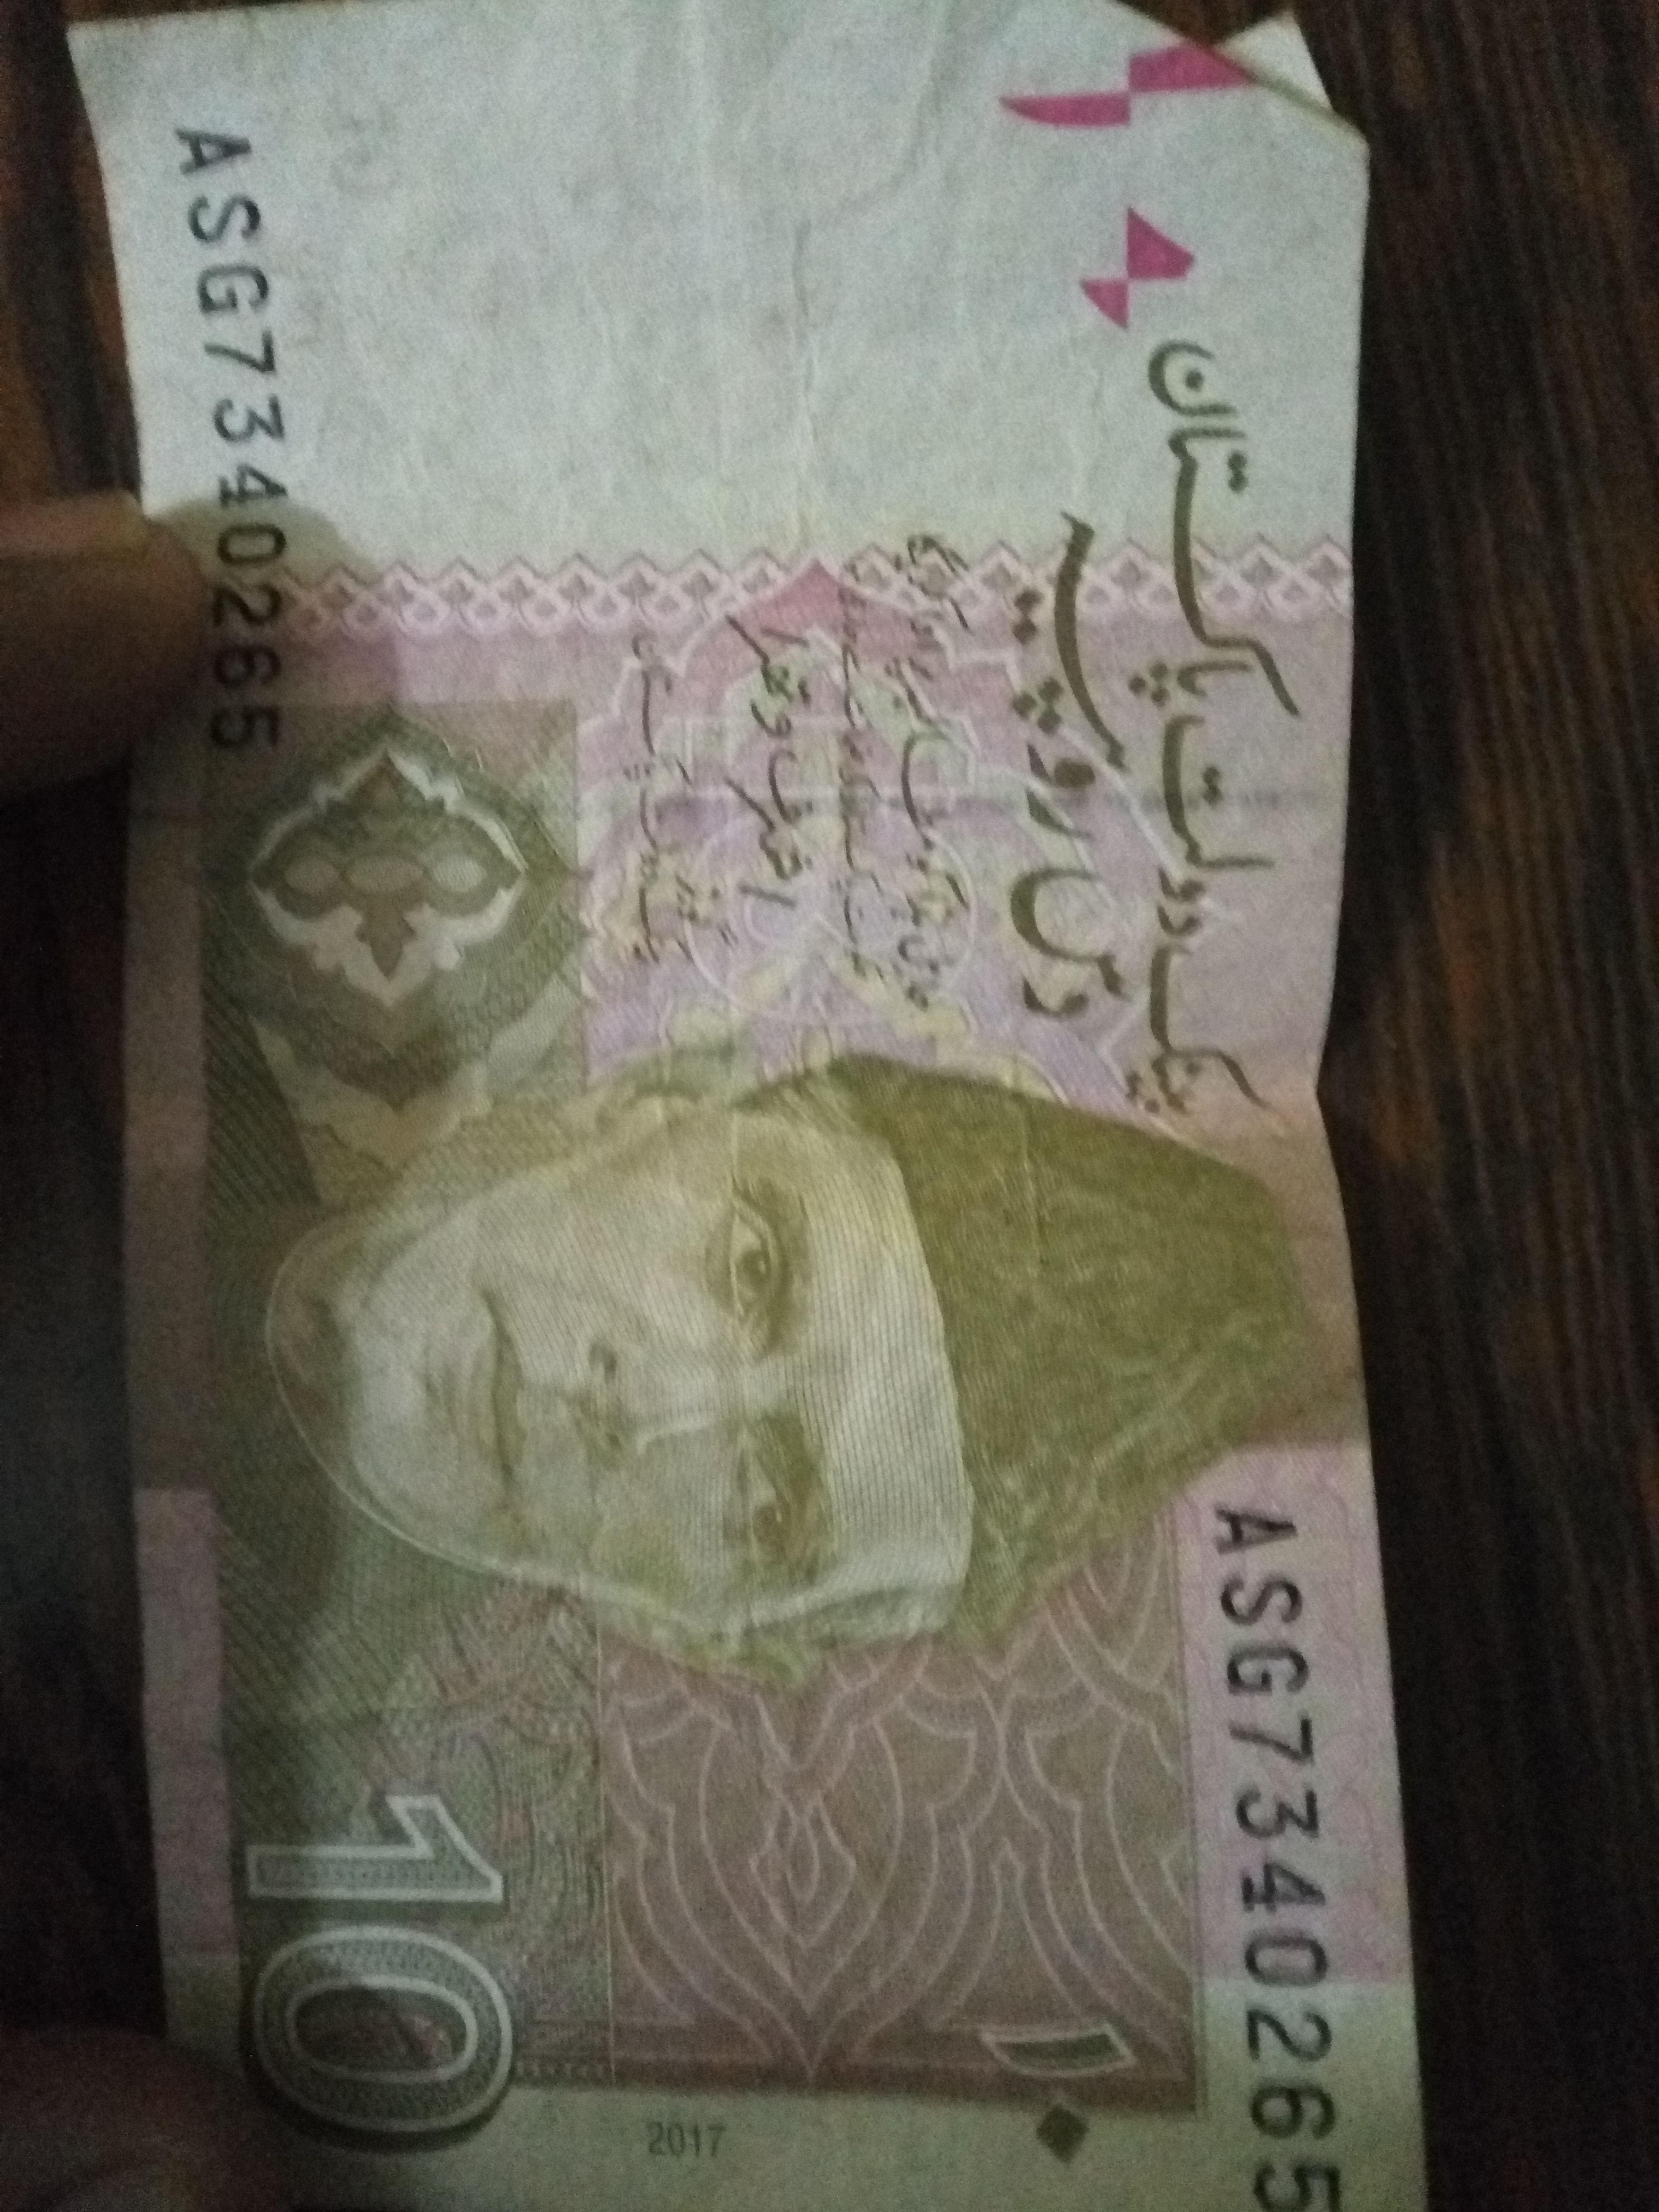10 rupee: (44, 52, 1422, 2170)
